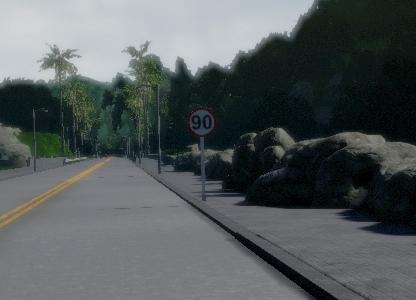Speed_90: (185, 106, 217, 139)
